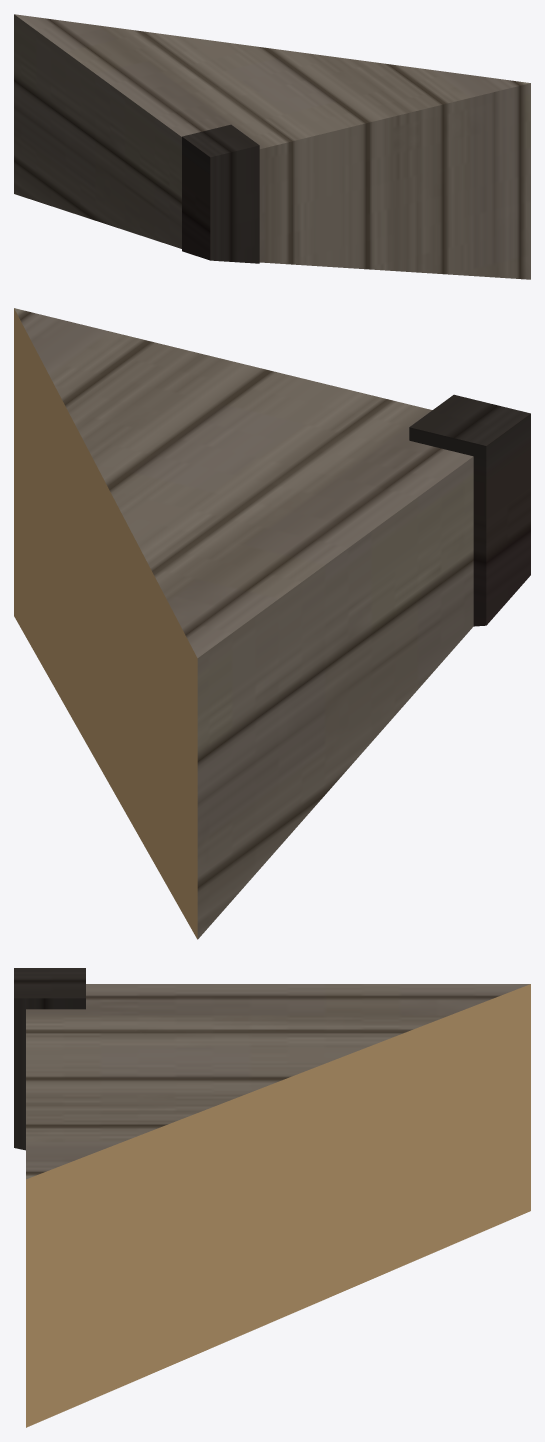
The model's file is crate_small_01_shard_2.glb.
The picture shows the model from 3 angles, top to bottom: view 1: azimuth 30°, elevation 25°; view 2: azimuth 150°, elevation 25°; view 3: azimuth 270°, elevation 25°; orthographic projection. The views are drawn at different scales.
Visible parts, largest first — view 1: crate_small_01_shard_2; view 2: crate_small_01_shard_2; view 3: crate_small_01_shard_2.
Boxes of the visible parts, x1,y1,x2,y2 form: crate_small_01_shard_2: [14, 14, 530, 279]; crate_small_01_shard_2: [14, 308, 530, 939]; crate_small_01_shard_2: [14, 968, 530, 1427].
Size of the model in its own units: 0.3964 by 0.239 by 0.4318.
Materials: 3 (2 with a texture image).
